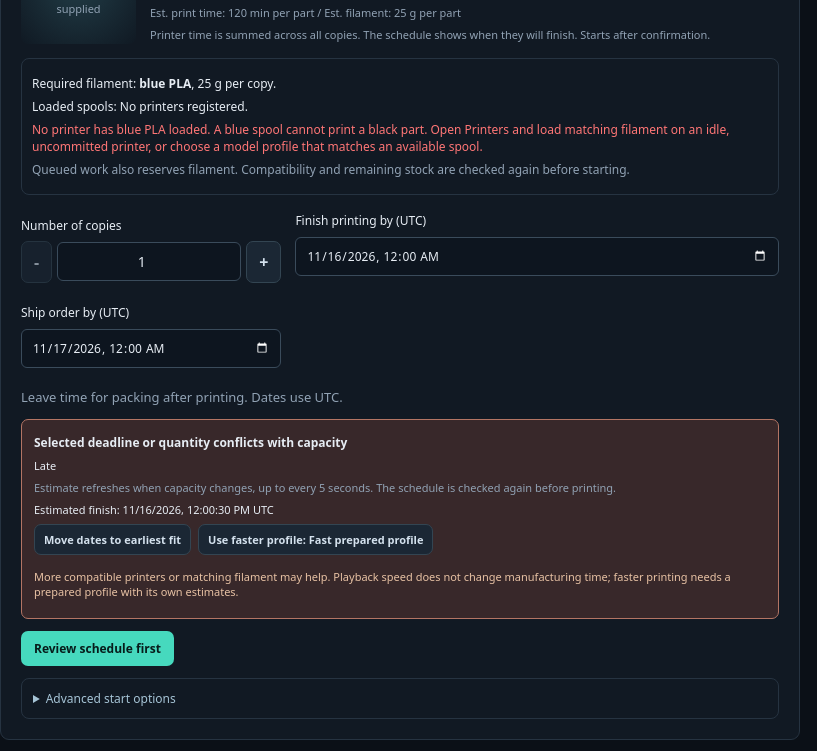
Test: earliest-fit dates round up fractional minutes and a faster prepared profile remains an explicit choice
(page scrolled)
Click the button "Move dates to earliest fit": coordinates (113, 539) [34,524,191,554]
(page scrolled)
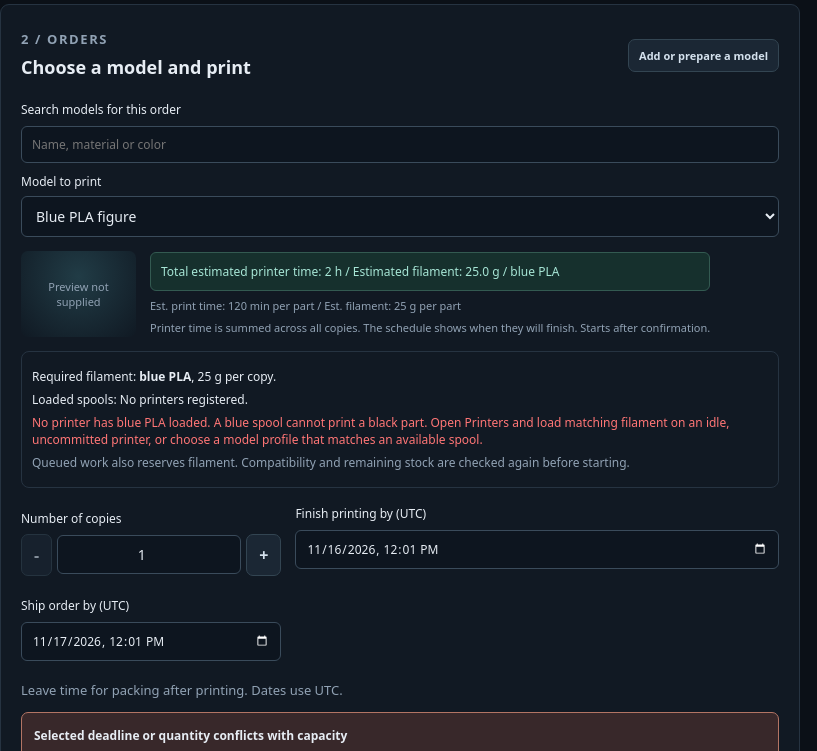
expect the field labelled "Finish printing by (UTC)" holds "2026-11-16T12:01": met, box [295,530,779,568]
In the search field labelled "Search models for this order": coordinates (400, 144) [21,126,779,162], type "Blue PLA figure"
(page scrolled)
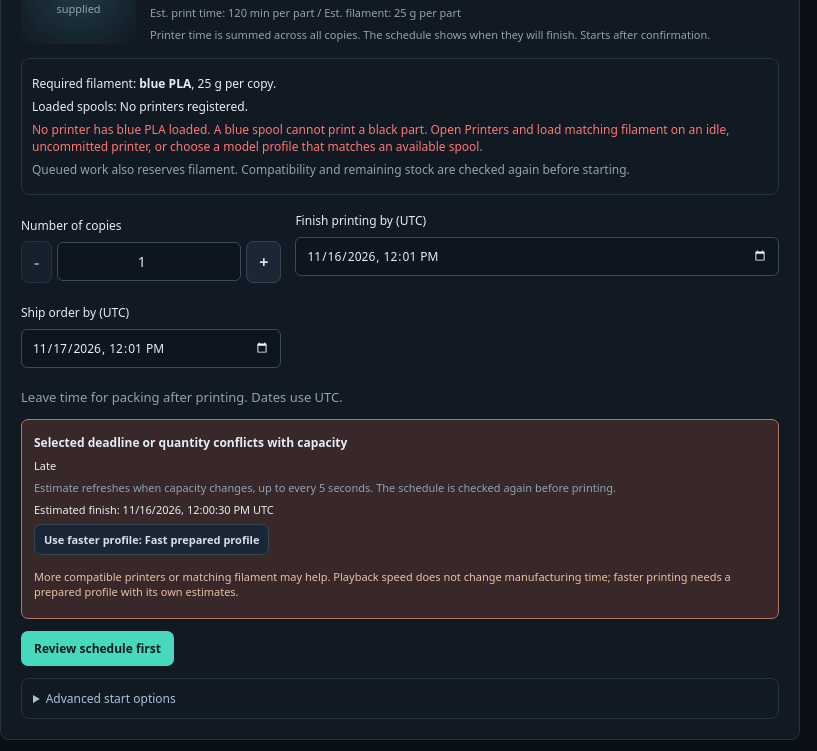
Click the button "Use faster profile: Fast prepared profile": coordinates (152, 539) [34,524,269,554]
(page scrolled)
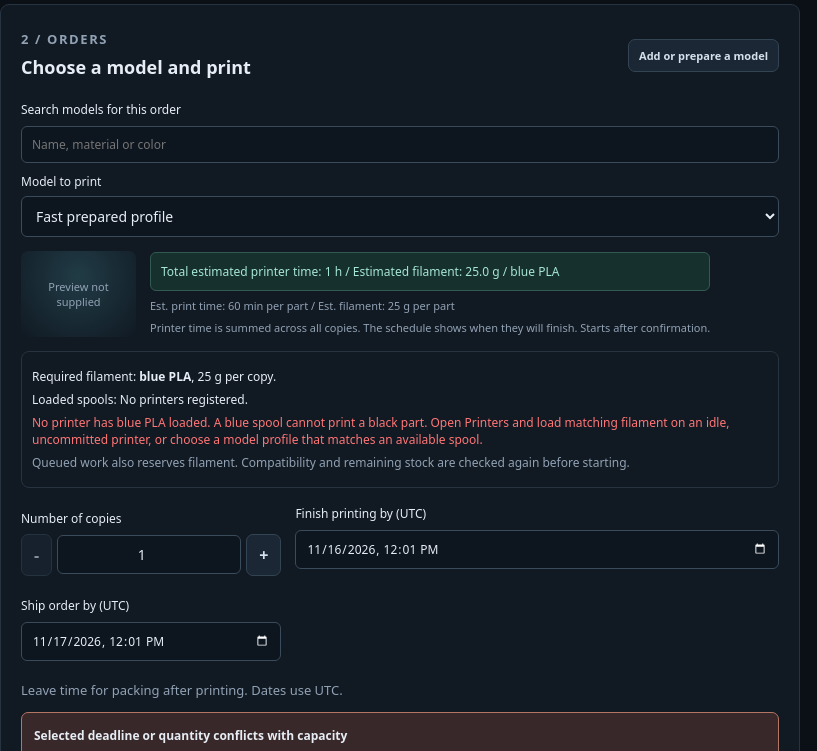
expect the dropdown labelled "Model to print" shows "Fast prepared profile": met, box [21,196,779,236]
expect the search field labelled "Search models for this order" is empty: met, box [21,126,779,162]
